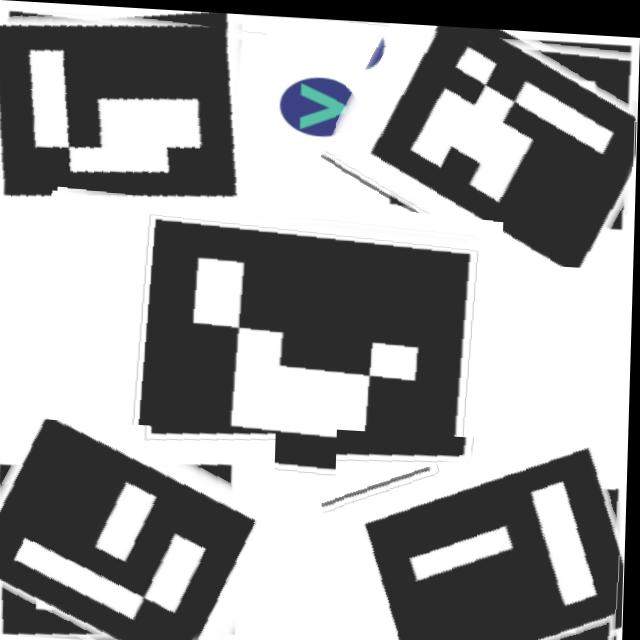aruco: (52, 186, 509, 491), (0, 0, 267, 292), (334, 16, 640, 263), (334, 425, 630, 640), (0, 416, 278, 640)
